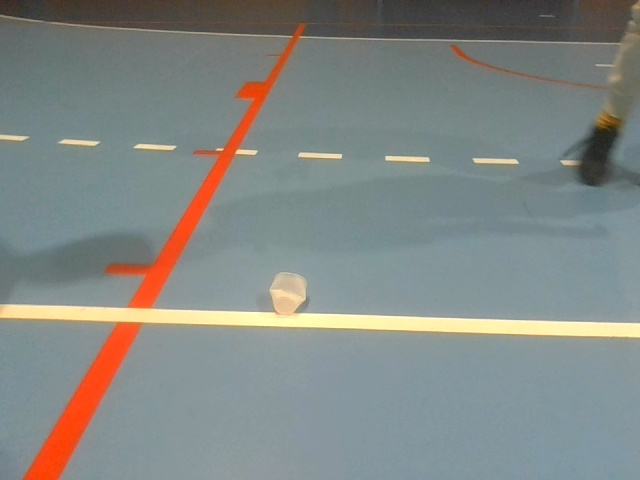plasticcup: (270, 272, 308, 315)
